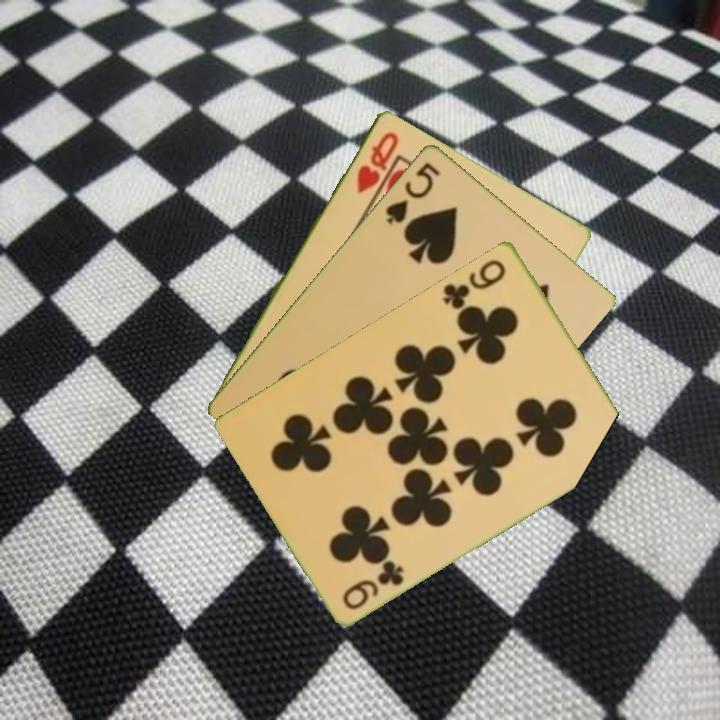5s: (381, 157, 444, 227)
9c: (439, 255, 509, 312), (339, 556, 407, 612)
Qh: (352, 127, 402, 197)
